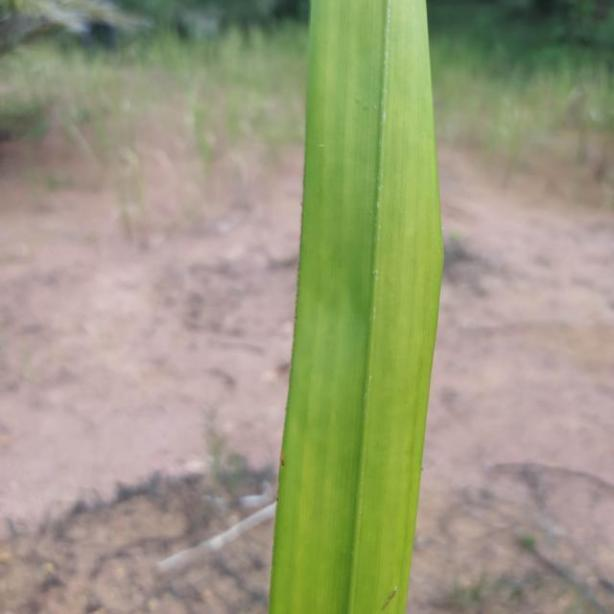nitrogen: (264, 0, 446, 614)
